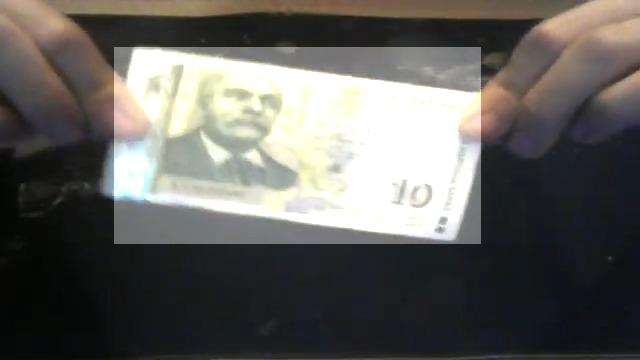10leva: (114, 47, 481, 244)
